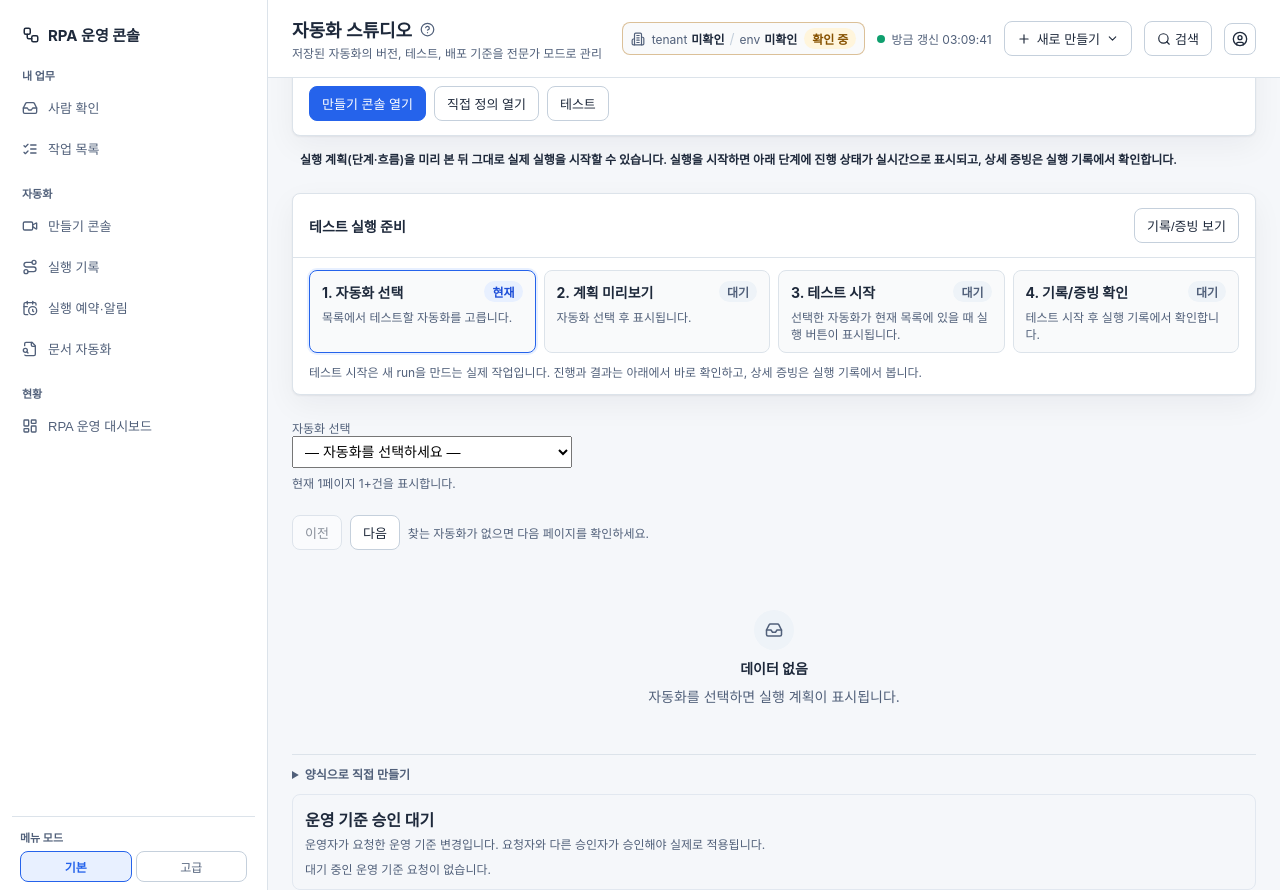
Scenario: 테스트 실행(Playground) — 계획 미리보기 + 실제 실행 시작 › Playground scenario selector follows the scenario cursor
(page scrolled)
Click the button "다음".
click(375, 532)  # box [350, 515, 400, 550]
(page scrolled)
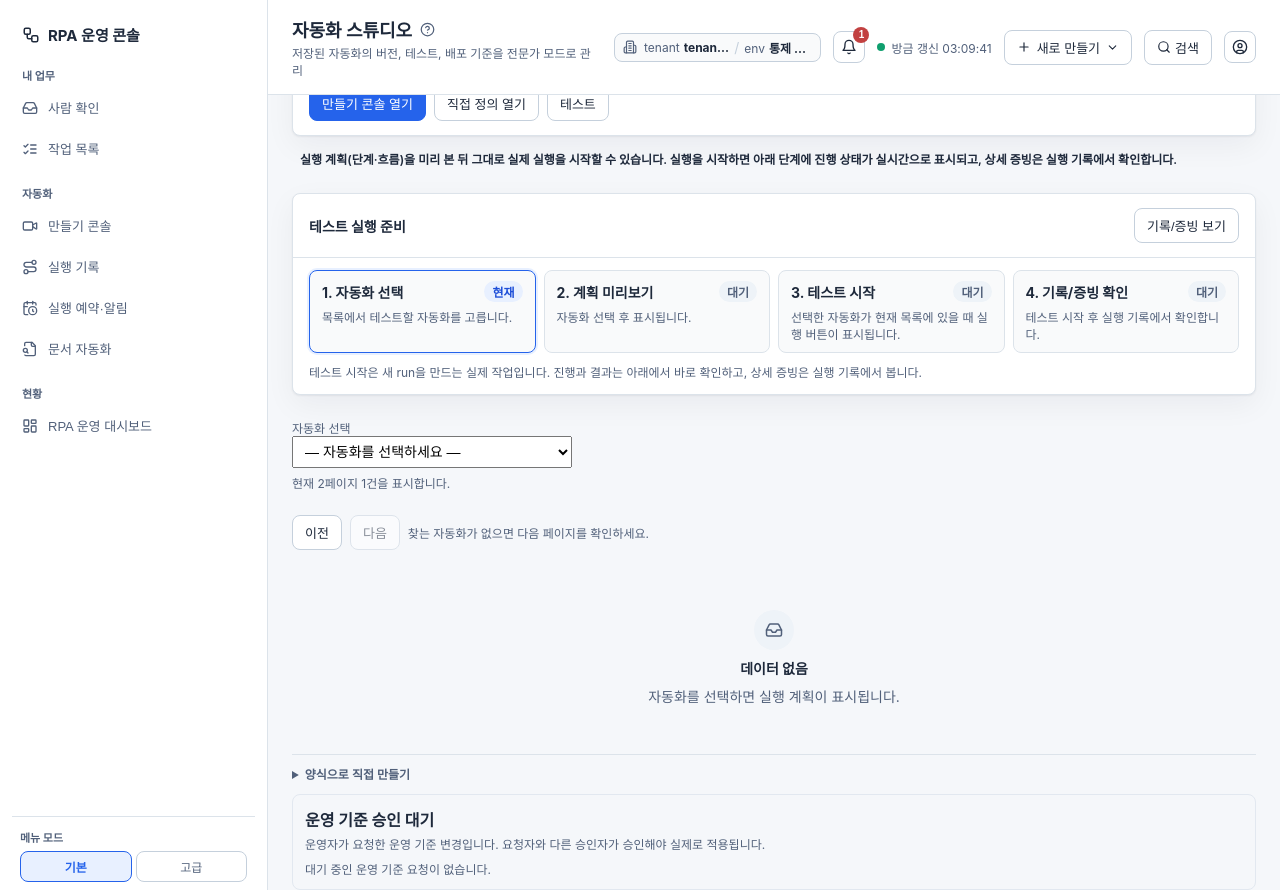
Select "리뷰 수집 (변경 2)" in the dropdown at (432, 452), box [292, 436, 572, 468]
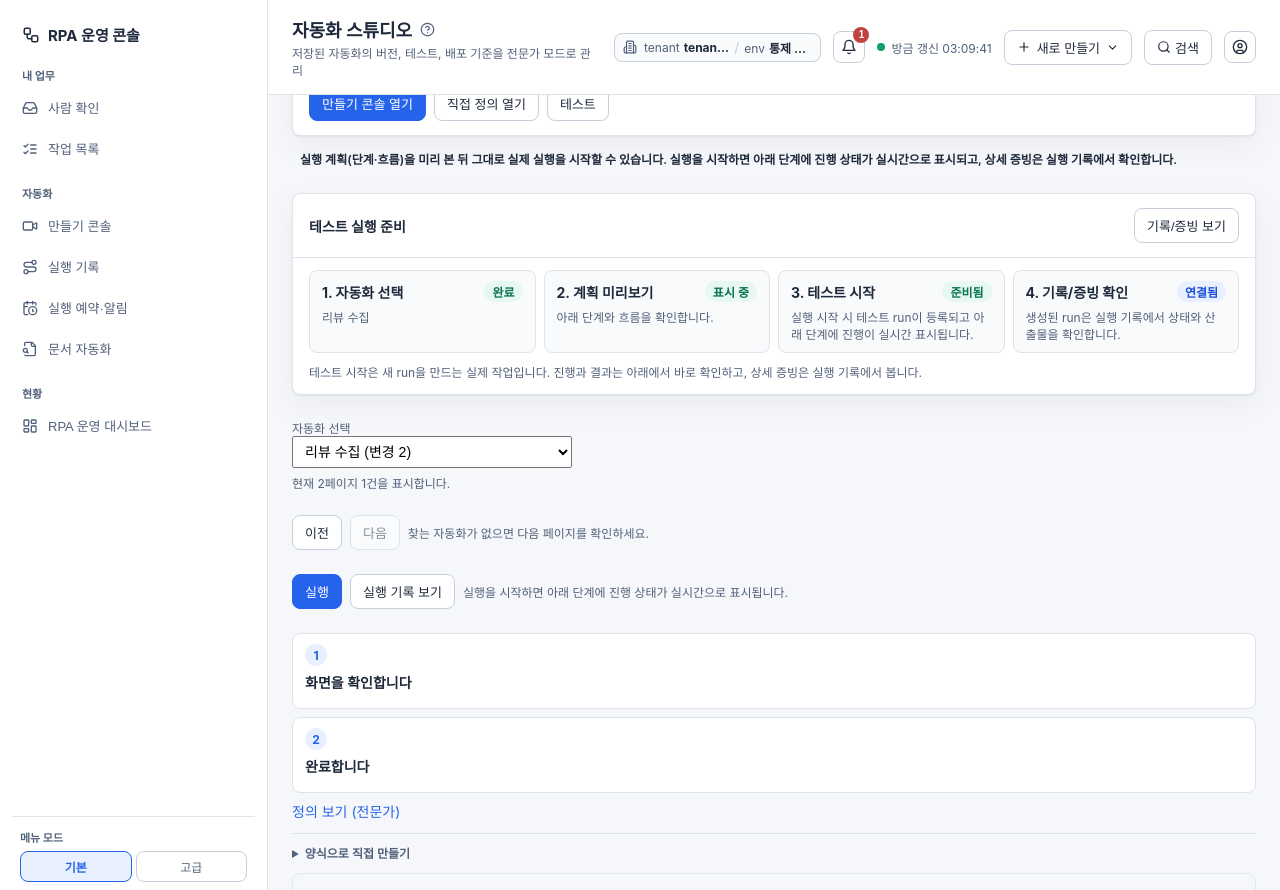
Expected: the text "화면을 확인합니다" is shown, [305, 672, 412, 692]
